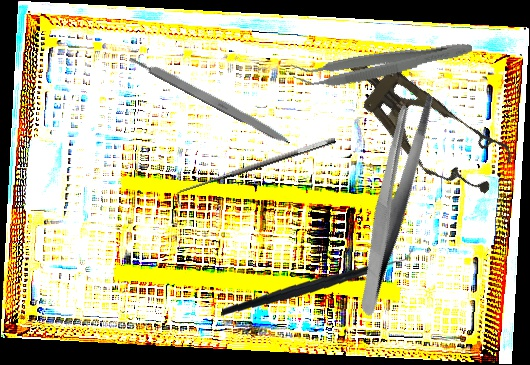Chopper: (221, 229, 414, 331)
Dressing Forceps: (305, 85, 480, 318)
Hook Surgical: (172, 134, 341, 208)
Scalpel Handle: (127, 51, 294, 147)
Speculum: (323, 31, 520, 210)
Tissue Forceps: (290, 30, 475, 94)
